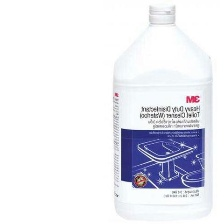cleaning_solution: (109, 1, 216, 224)
